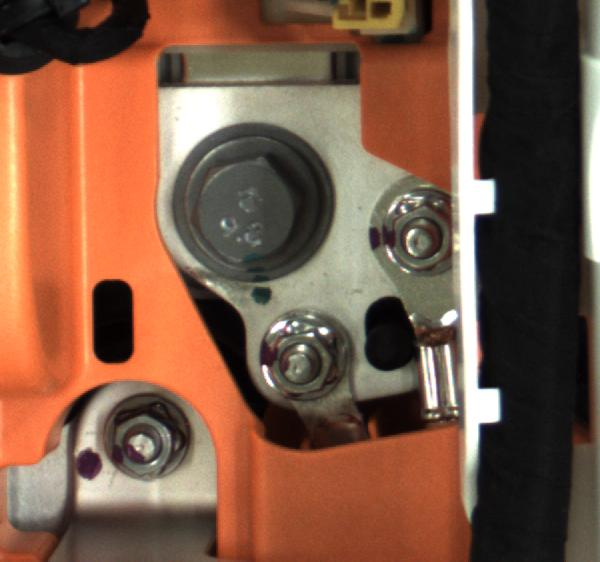nut_b: (174, 122, 332, 276)
screw_s: (254, 304, 351, 411), (100, 396, 190, 493), (386, 188, 458, 277)
